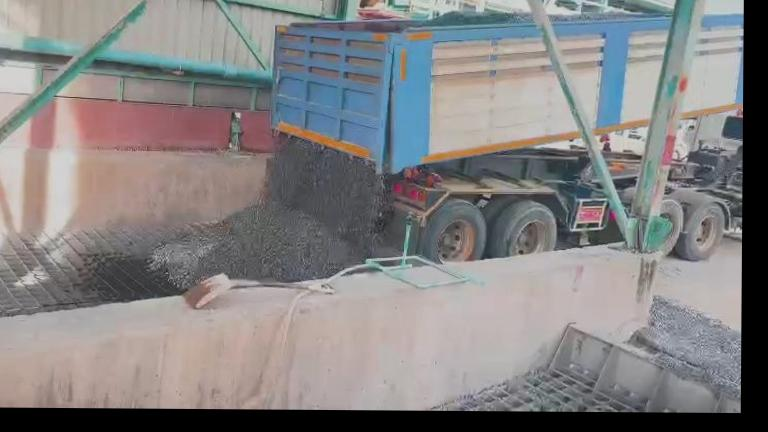gravel: (149, 137, 390, 289), (638, 297, 740, 397), (424, 11, 533, 26), (550, 13, 667, 21)
